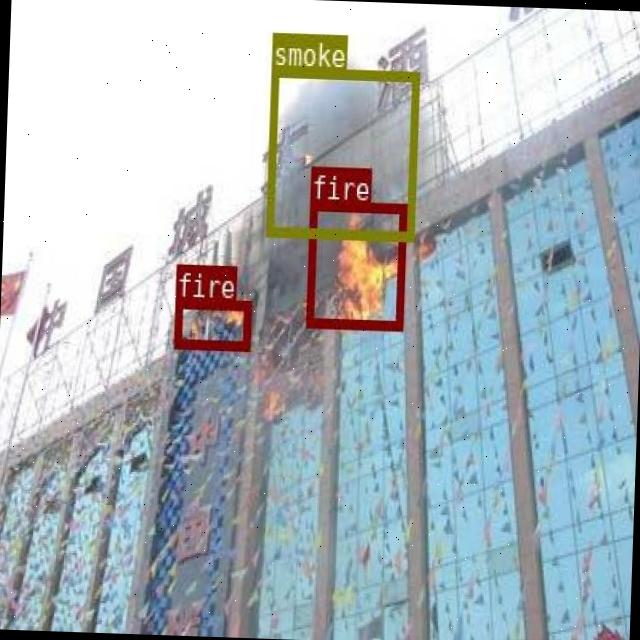fire: (305, 198, 405, 328), (172, 296, 249, 349)
smoke: (265, 65, 418, 239)
